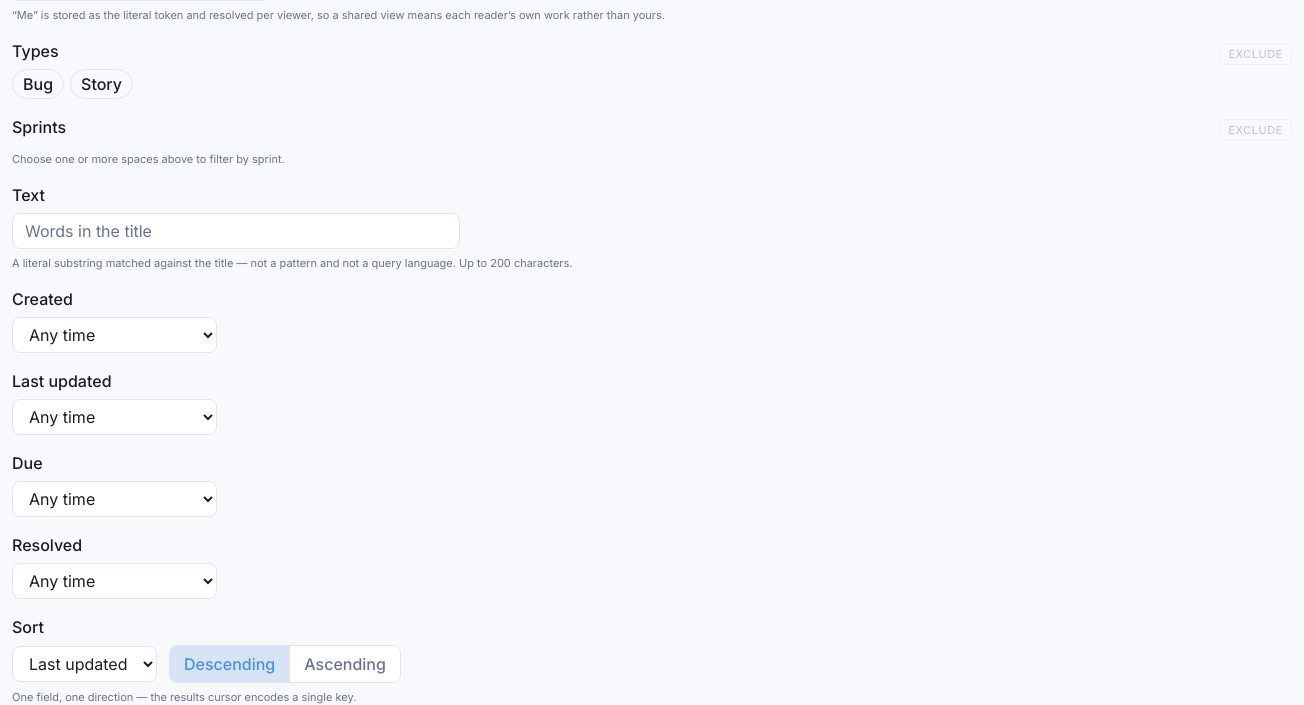
Test: QueryFilterBuilder — v2 date ranges › says plainly that a resolved-date filter matches nothing yet
(page scrolled)
Select "Last 7 days" in the dropdown with test id "view-date-resolved_at" at (114, 581), box [12,563,217,599]
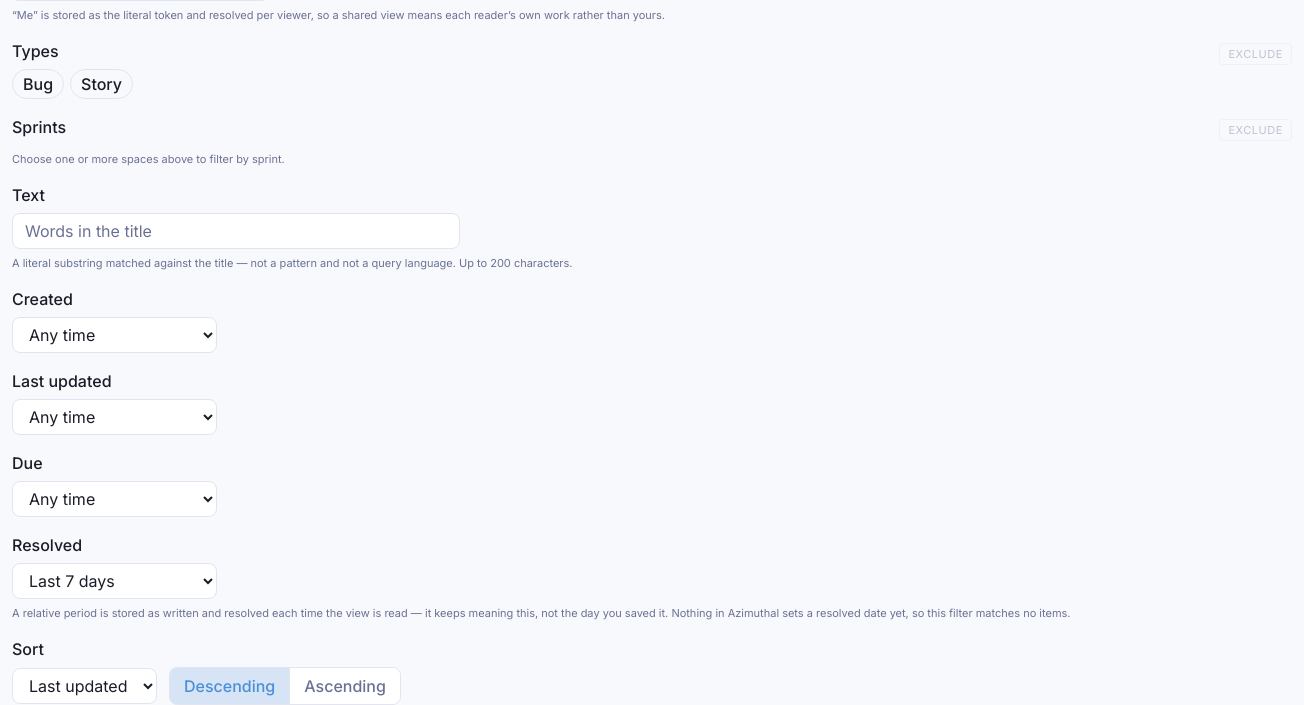
Now the text "matches no items" is shown, box [668,606,1070,620]
